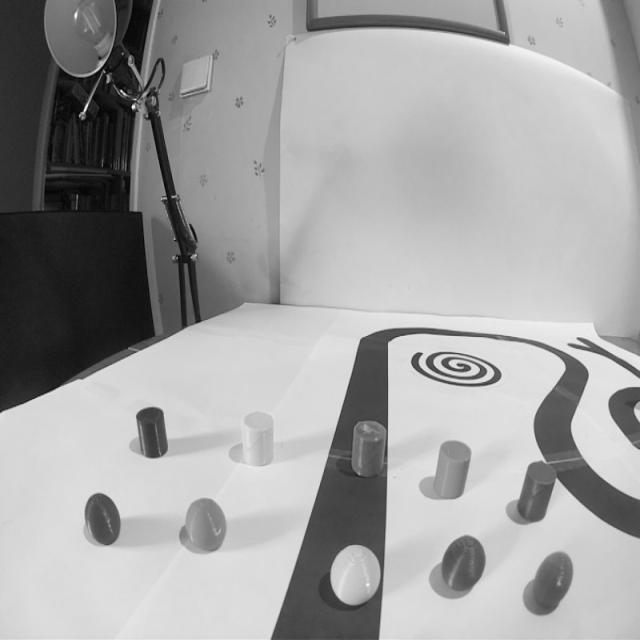ball: (331, 541, 382, 609), (440, 534, 487, 594), (531, 549, 575, 611), (184, 497, 227, 554), (84, 492, 121, 546)
cylinder: (517, 461, 558, 523), (433, 440, 473, 500), (351, 419, 388, 478), (241, 410, 275, 468), (135, 407, 169, 459)
lineStraight: (268, 457, 391, 640)
nest: (411, 348, 503, 388)
